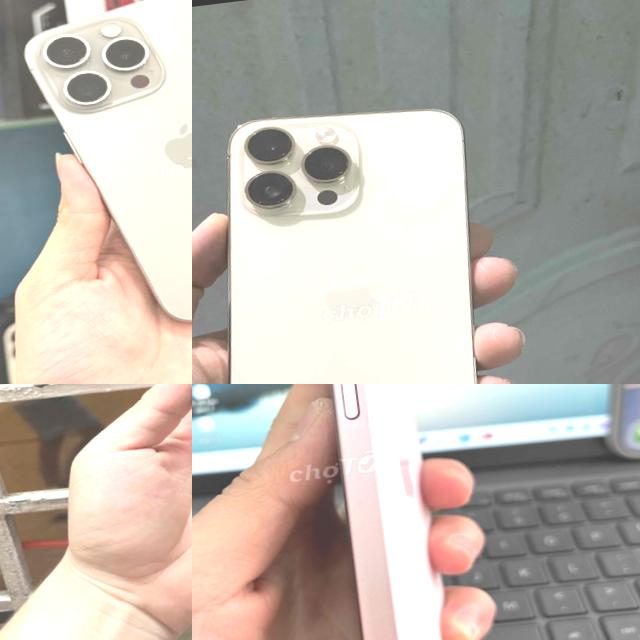gen_14: (192, 87, 507, 384)
gen_15: (0, 0, 192, 336), (268, 384, 495, 640)
